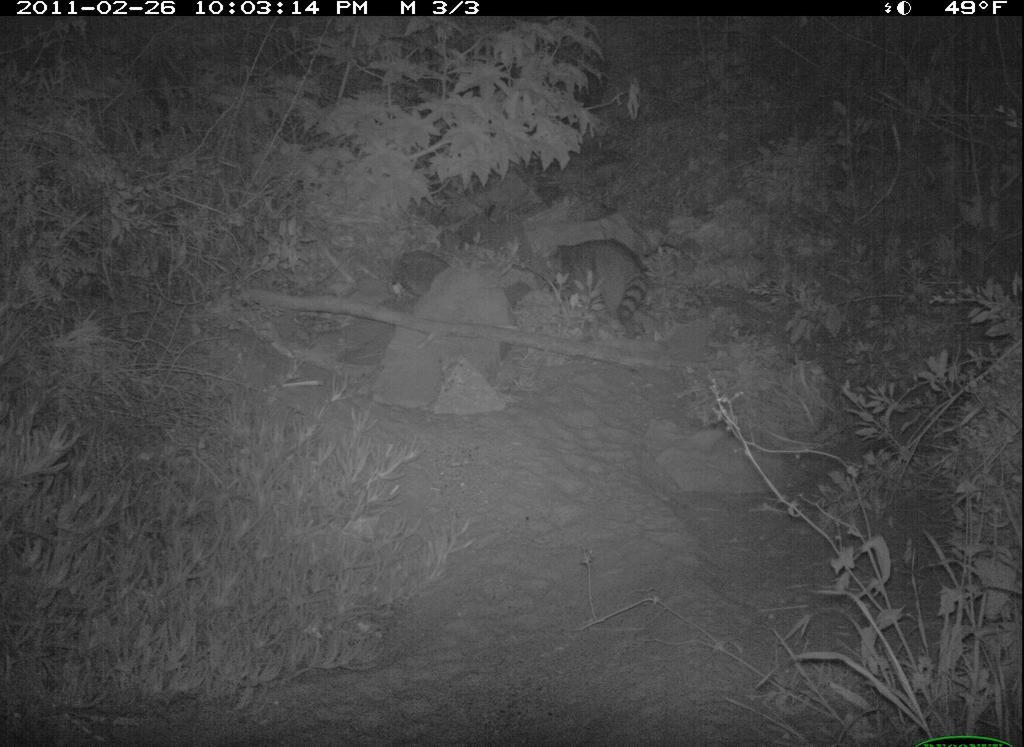raccoon: (553, 239, 657, 344)
